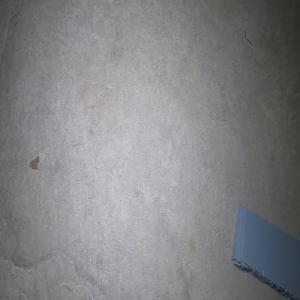PlasticPart: (231, 204, 300, 300)
